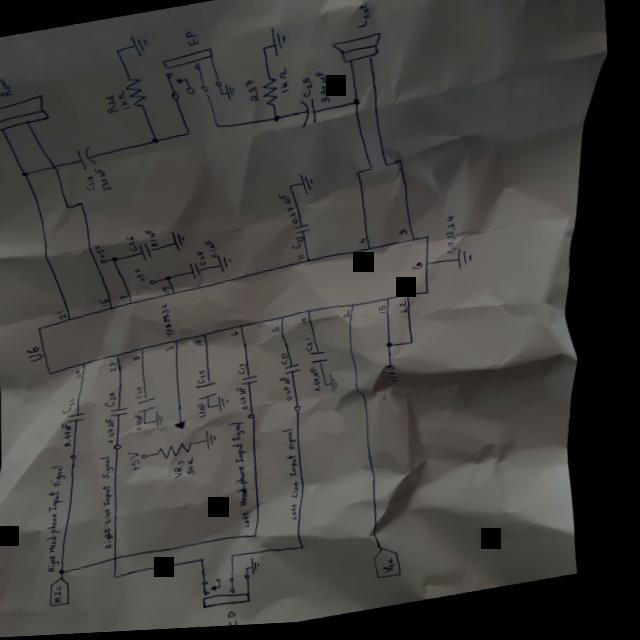capacitor: (74, 145, 101, 173), (298, 101, 319, 132), (200, 383, 223, 402), (140, 397, 163, 416), (312, 352, 335, 369), (139, 244, 156, 265), (244, 375, 265, 390), (286, 365, 308, 379), (191, 263, 206, 283), (73, 412, 93, 426), (114, 407, 134, 419), (296, 226, 314, 239)
crossover: (51, 164, 60, 172), (118, 557, 127, 563)
ground: (267, 27, 289, 61), (127, 33, 150, 60), (456, 251, 478, 277), (299, 174, 318, 200), (172, 231, 190, 256), (218, 255, 237, 277), (207, 430, 224, 454), (221, 396, 236, 416), (158, 411, 171, 431), (333, 377, 345, 398), (223, 86, 236, 104), (256, 561, 269, 578)
junction: (271, 117, 283, 126), (351, 101, 362, 110), (150, 139, 162, 146), (64, 569, 74, 577), (389, 345, 398, 353), (305, 547, 313, 555), (258, 535, 266, 543), (21, 171, 30, 178), (166, 277, 175, 284), (396, 162, 405, 169), (205, 559, 213, 566), (236, 555, 244, 562), (383, 166, 391, 173), (113, 257, 121, 264), (185, 132, 193, 139), (214, 125, 222, 131), (79, 201, 86, 207), (260, 48, 267, 54), (369, 170, 376, 176), (412, 344, 419, 350), (356, 174, 362, 180), (119, 576, 126, 581), (114, 50, 120, 55), (66, 206, 72, 211), (148, 422, 154, 427), (290, 188, 295, 192), (328, 386, 333, 390), (212, 407, 216, 411), (252, 570, 256, 574), (220, 95, 224, 98)
resistor: (158, 419, 204, 463), (122, 76, 150, 111), (259, 79, 281, 112)
terminal: (159, 47, 227, 105), (206, 574, 264, 614), (377, 549, 411, 587), (52, 576, 81, 609), (389, 368, 401, 376), (117, 445, 128, 453), (251, 415, 262, 423), (74, 454, 83, 461), (101, 260, 111, 266), (152, 280, 160, 287), (146, 455, 154, 462), (299, 408, 306, 415)
text: (39, 463, 86, 575), (227, 422, 264, 534), (280, 429, 317, 526), (97, 456, 131, 554), (277, 195, 303, 231), (443, 220, 464, 259), (161, 303, 182, 342), (312, 73, 332, 108), (93, 166, 116, 195), (311, 365, 331, 397), (351, 5, 373, 34), (242, 81, 263, 106), (238, 386, 256, 415), (282, 378, 300, 407), (108, 418, 124, 446), (64, 422, 80, 450), (131, 451, 149, 475), (277, 69, 292, 97), (175, 461, 193, 484), (0, 74, 16, 99), (28, 345, 49, 364), (205, 240, 222, 263), (299, 80, 316, 102), (146, 228, 162, 251), (116, 90, 132, 113), (182, 30, 201, 49), (103, 94, 119, 116), (386, 561, 404, 580), (189, 459, 206, 479), (107, 392, 124, 410), (66, 398, 84, 415), (84, 175, 100, 194), (126, 236, 141, 255), (59, 586, 74, 605), (137, 413, 151, 433), (135, 386, 151, 402), (233, 613, 248, 629), (95, 245, 110, 261), (389, 374, 405, 389), (292, 238, 308, 253), (136, 269, 150, 285), (199, 371, 213, 387), (201, 404, 214, 421), (240, 364, 254, 379), (197, 253, 210, 269), (307, 340, 320, 356), (400, 304, 413, 319), (111, 361, 123, 375), (58, 310, 72, 322), (283, 356, 295, 369), (413, 266, 428, 276), (77, 370, 88, 382), (167, 345, 180, 355), (381, 309, 393, 319), (399, 232, 411, 242), (345, 312, 355, 324), (197, 340, 208, 350), (164, 287, 175, 297), (102, 300, 114, 309), (122, 295, 132, 305), (233, 332, 244, 341), (135, 356, 147, 364), (360, 240, 372, 248), (275, 329, 285, 336), (300, 257, 309, 264), (305, 320, 312, 328)
